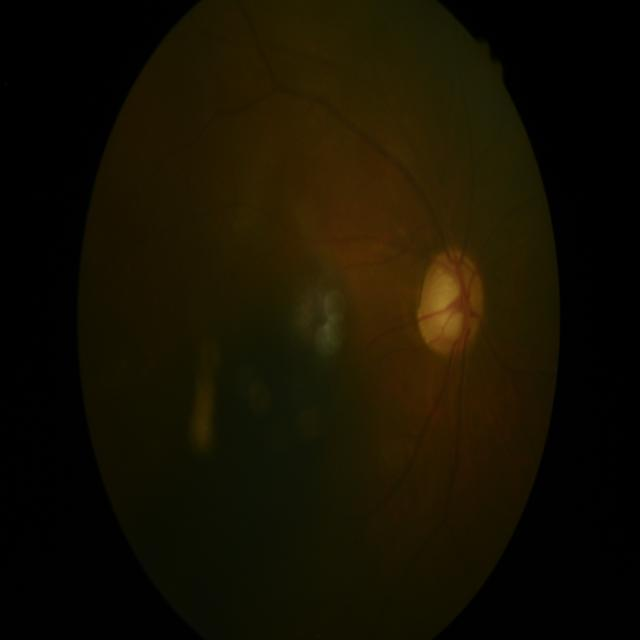cup: (423, 266, 470, 336)
disk: (418, 248, 484, 358)
